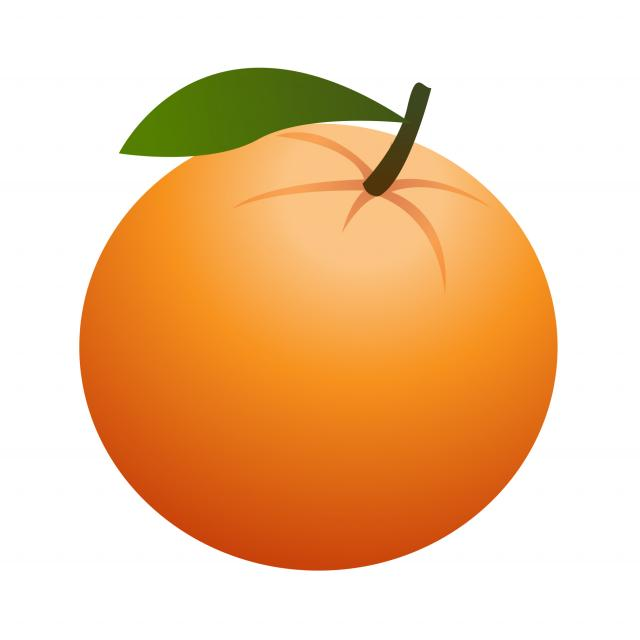orange: (79, 63, 561, 574)
